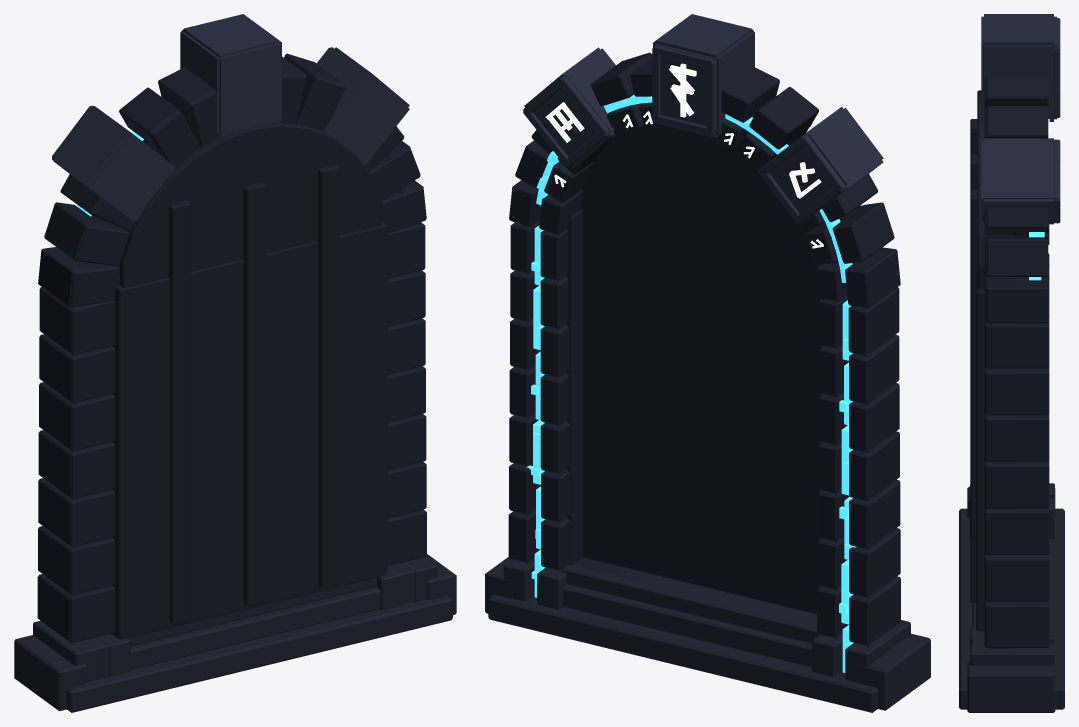
Rendered from leaderboard_power_monolith.fbx.
3 renders of one model, left to right at view 1: azimuth 30°, elevation 25°; view 2: azimuth 150°, elevation 25°; view 3: azimuth 270°, elevation 25°, orthographic. The views are drawn at different scales.
Parts seen in each view (by area): view 1: Monolith_ArchStones, Monolith_SteppedBase, Monolith_Keystones; view 2: Monolith_ArchStones, Monolith_SteppedBase, Monolith_Keystones, Monolith_GlitchChannels, Monolith_KeystoneRunes; view 3: Monolith_ArchStones, Monolith_Keystones, Monolith_SteppedBase.
Part boxes in pixels (bbox=[...]): Monolith_ArchStones: bbox=[37, 53, 426, 642]; Monolith_SteppedBase: bbox=[14, 554, 456, 712]; Monolith_Keystones: bbox=[52, 14, 409, 221]; Monolith_ArchStones: bbox=[508, 52, 900, 645]; Monolith_SteppedBase: bbox=[485, 557, 930, 712]; Monolith_Keystones: bbox=[523, 14, 883, 223]; Monolith_GlitchChannels: bbox=[526, 94, 856, 672]; Monolith_KeystoneRunes: bbox=[546, 63, 823, 248]; Monolith_ArchStones: bbox=[970, 77, 1049, 648]; Monolith_Keystones: bbox=[981, 14, 1060, 224]; Monolith_SteppedBase: bbox=[959, 483, 1064, 712].
Bounding box in the file's own units: 15 × 21.93 × 3.55.
